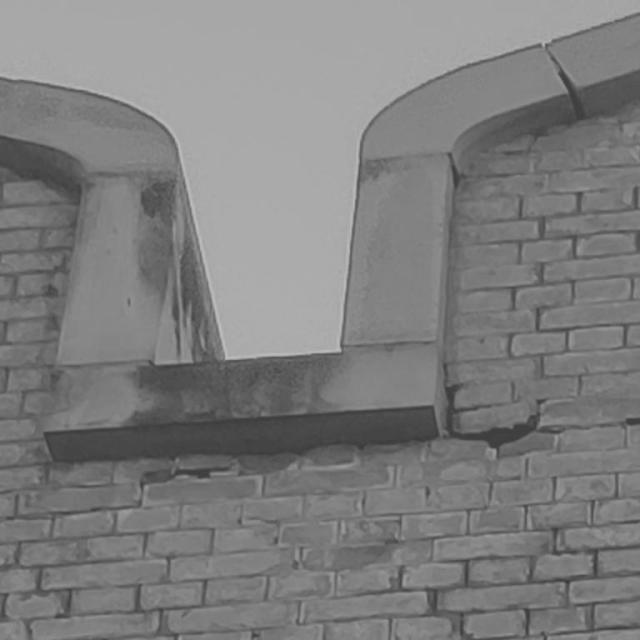crack: (442, 364, 566, 459), (140, 464, 232, 485)
